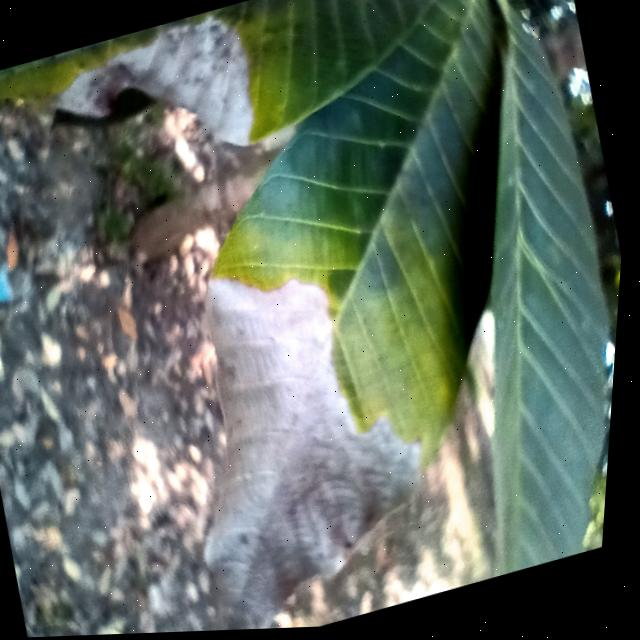Leaf-Blight: (136, 229, 478, 635), (39, 6, 271, 197)
